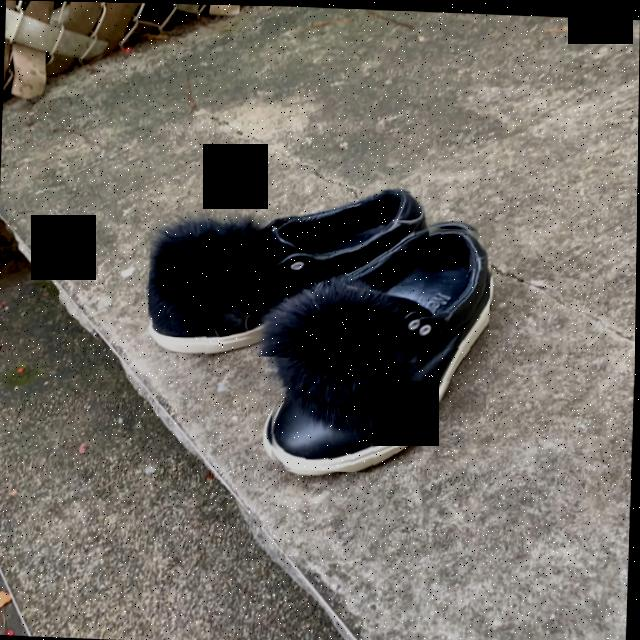shoe: (272, 226, 491, 470), (149, 189, 430, 353)
